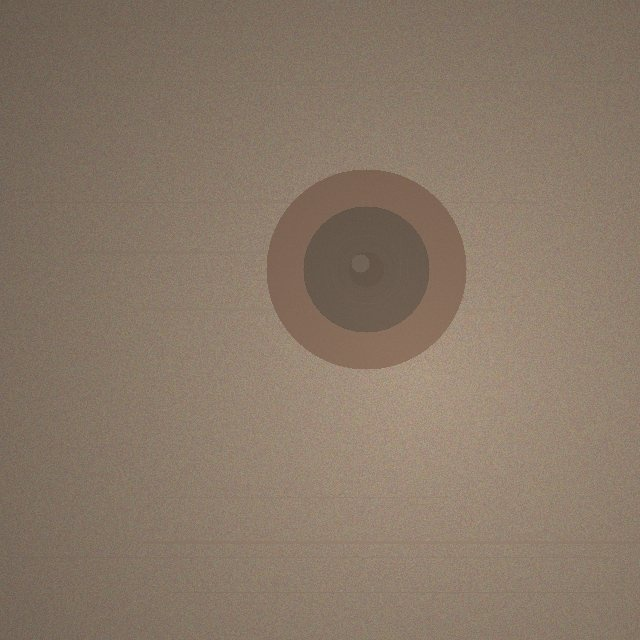good: (266, 169, 466, 369)
